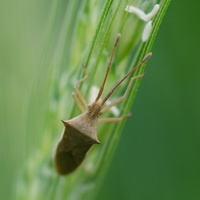insect: (55, 34, 151, 174)
